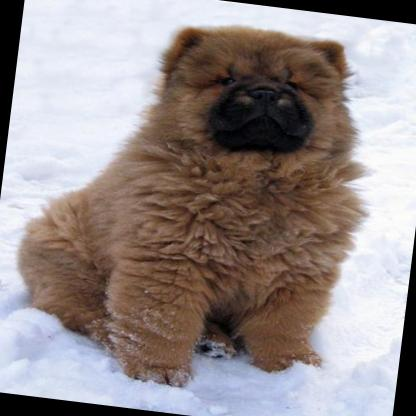chow: (0, 0, 391, 410)
